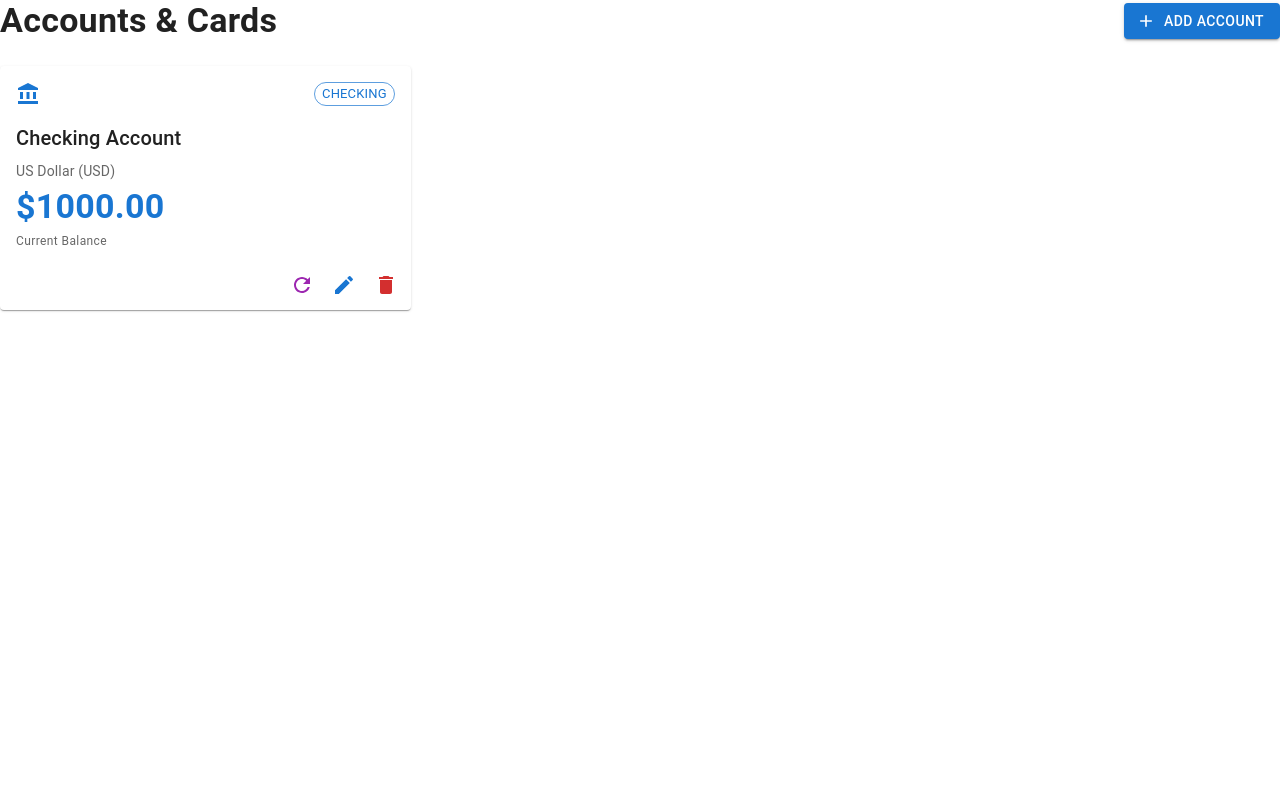
Accounts › Add Account Dialog › should open add account dialog
What coordinates should you click on to do the following:
click the button "Add Account"
I would click on:
 (1202, 21)
Its box is [1124, 3, 1279, 39].
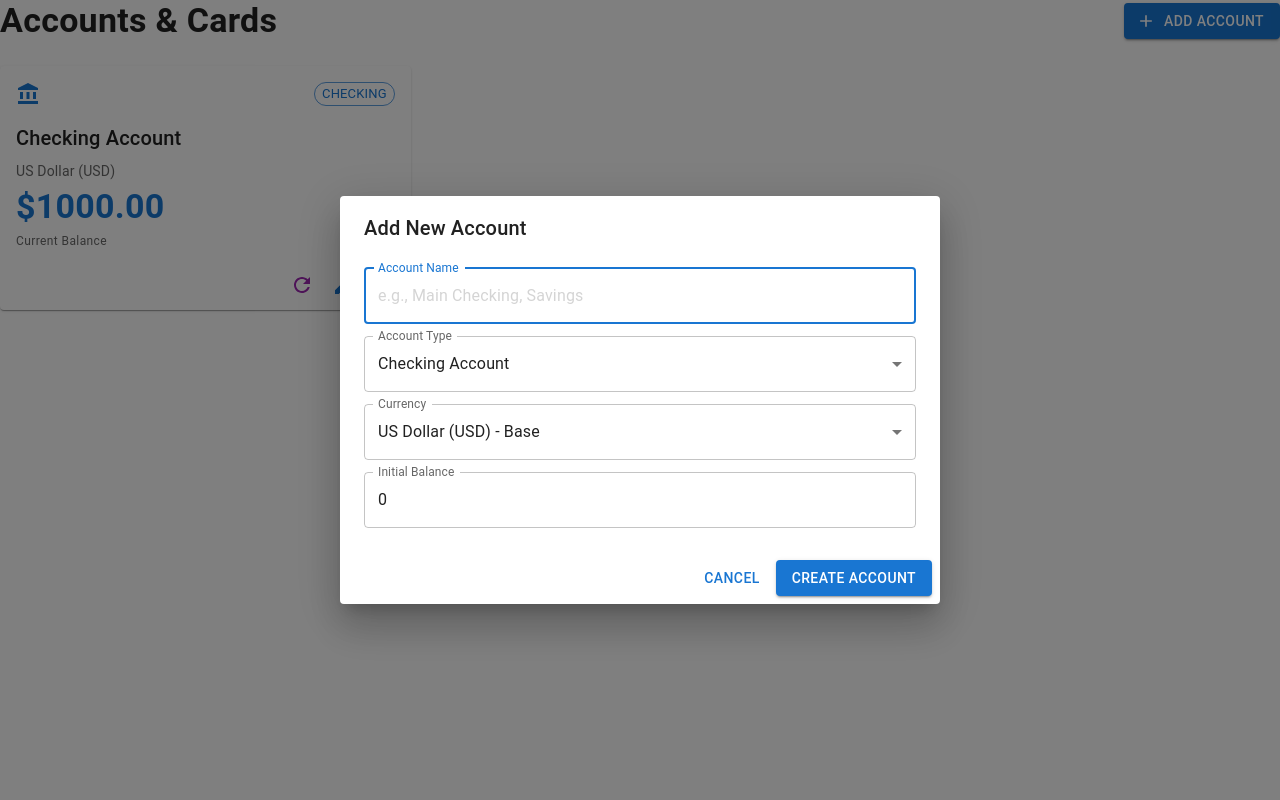
Result: the heading "Add New Account" is shown at [364, 216, 526, 240]
